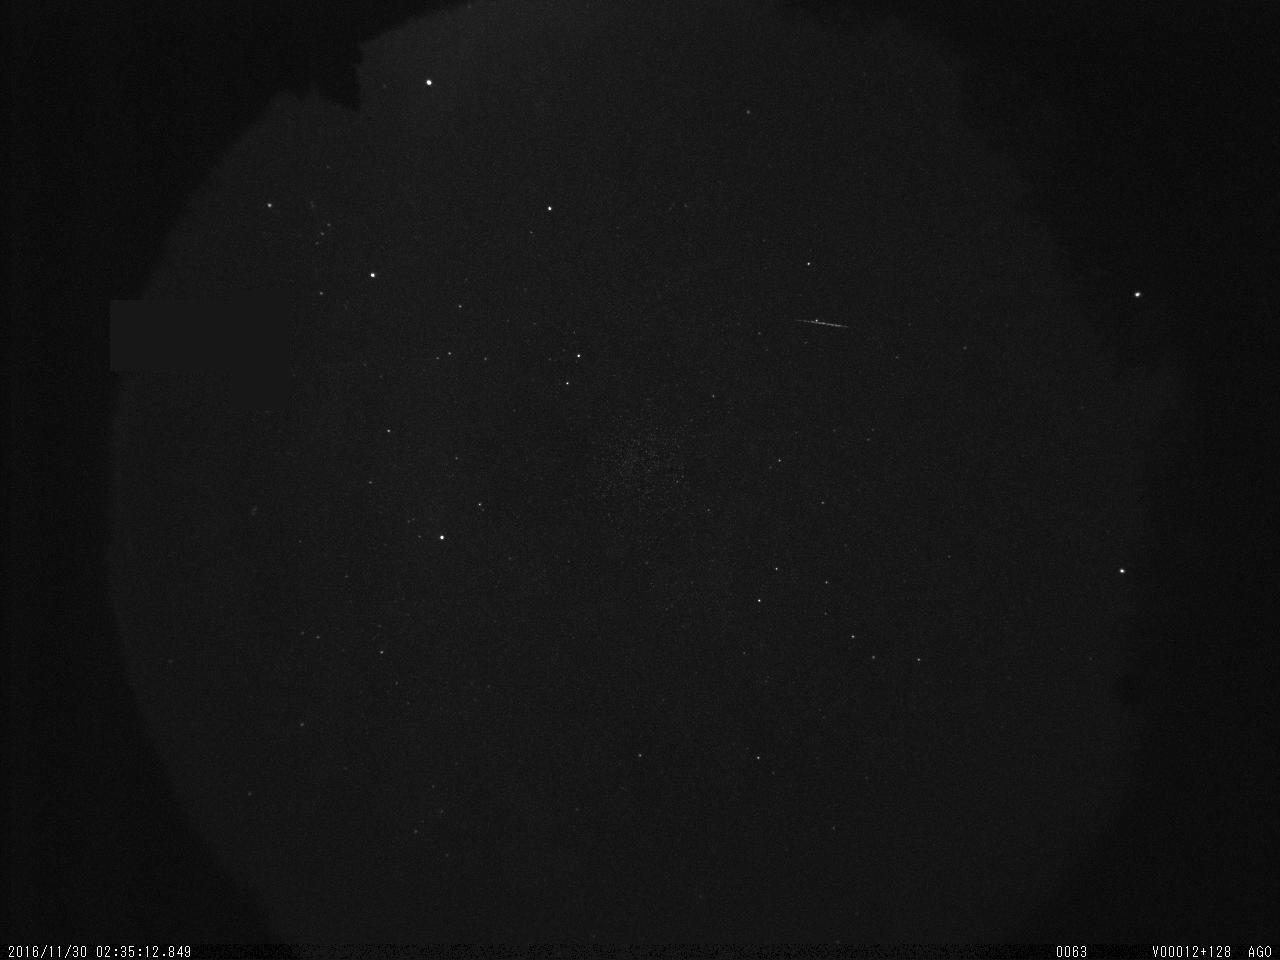Meteor: (792, 314, 850, 331)
